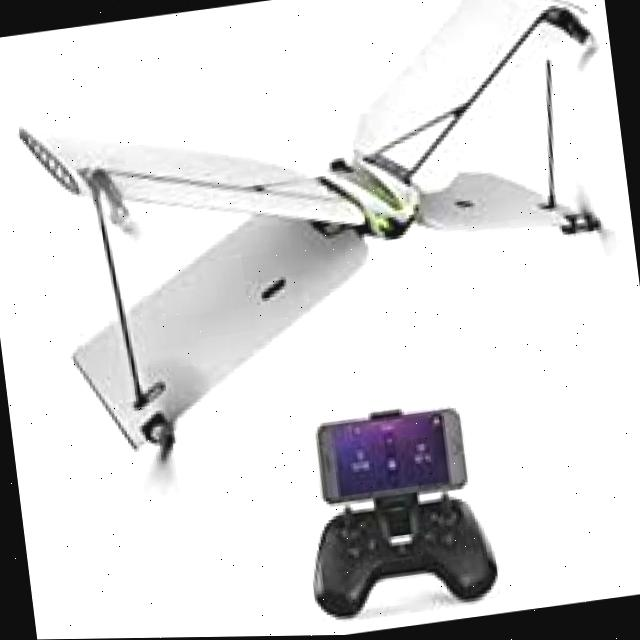drone: (0, 0, 640, 488)
